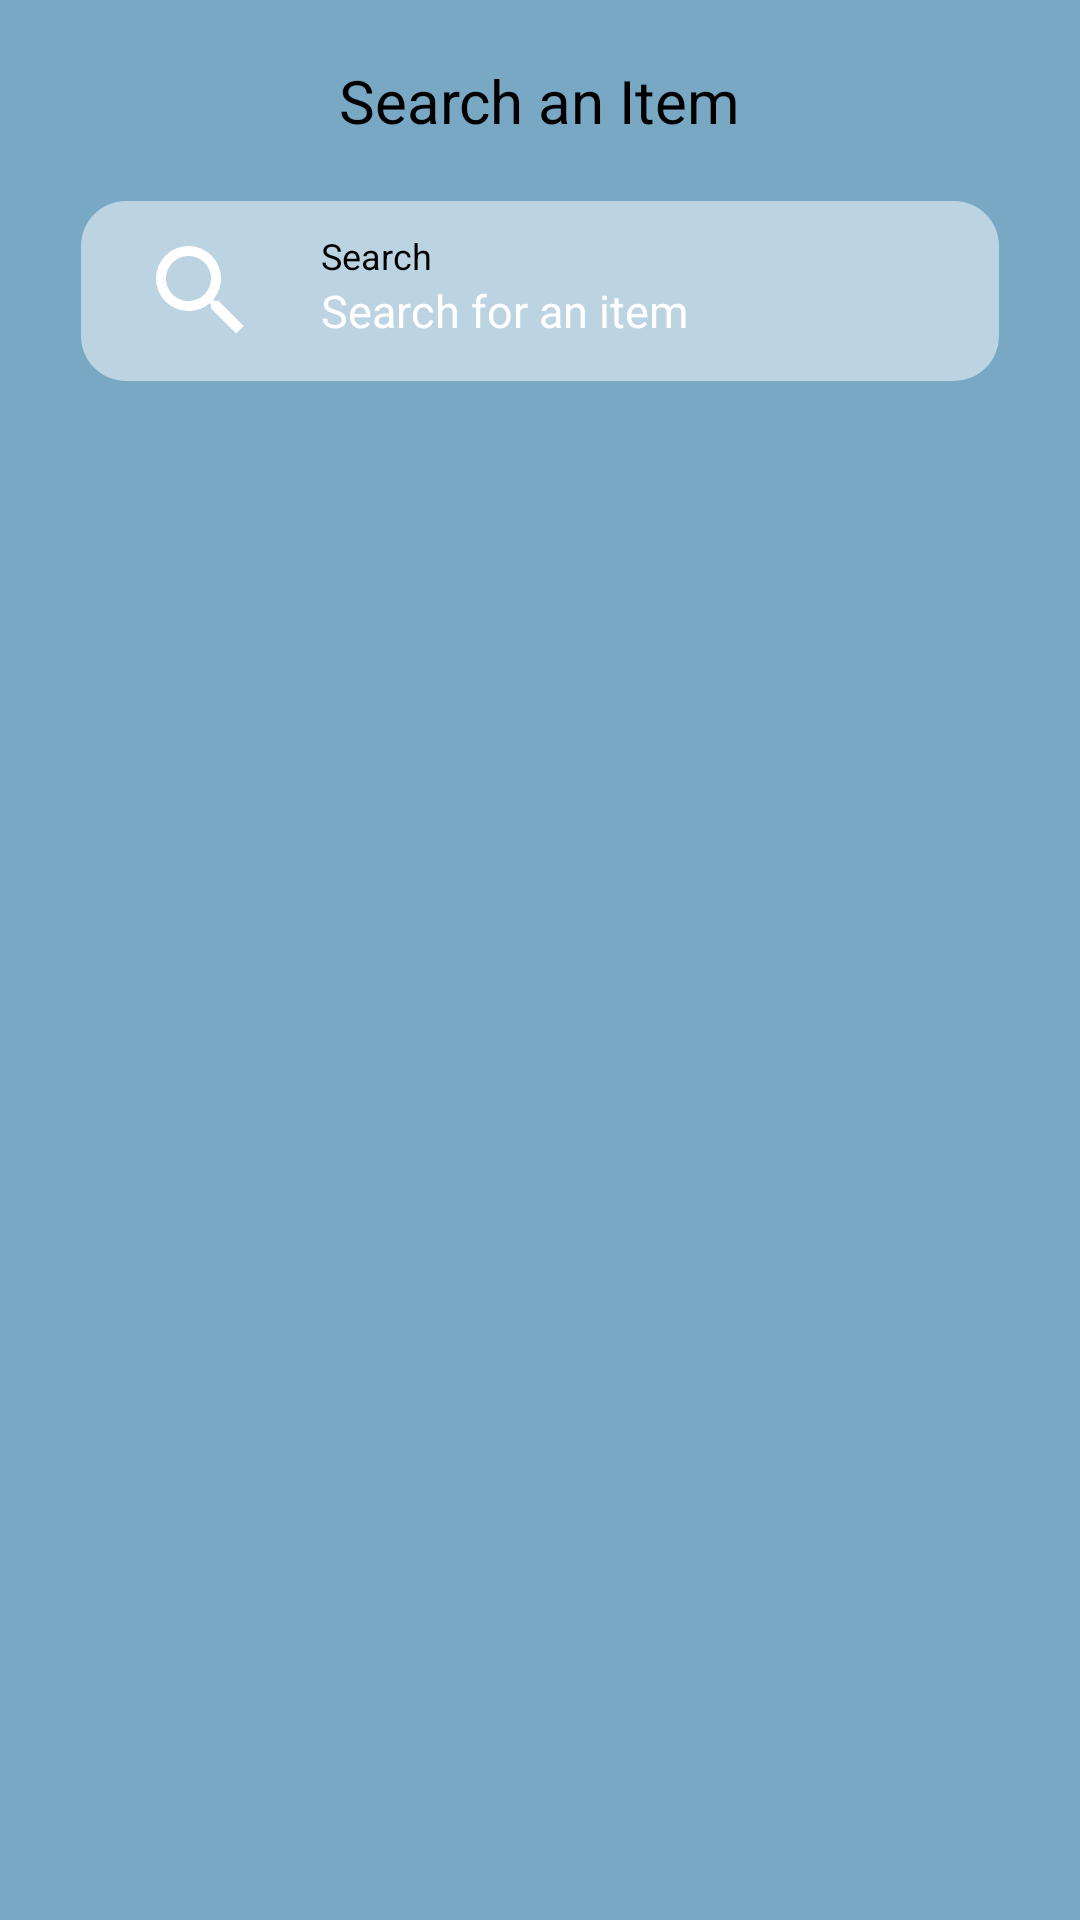

Screen size 1080*1920. Icon name, then its center in pixels as [x,y]:
magnify: [199,289]
